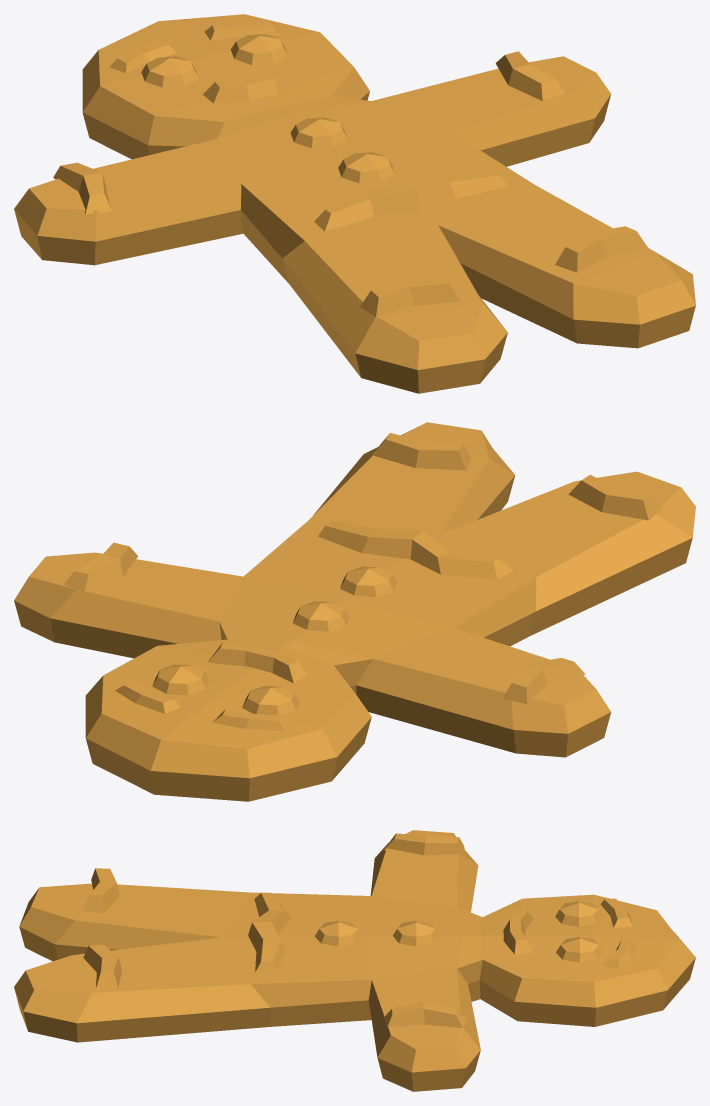
The model's file is gingerbread-man.fbx.
3 renders of one model, top to bottom at view 1: azimuth 30°, elevation 25°; view 2: azimuth 150°, elevation 25°; view 3: azimuth 270°, elevation 25°, orthographic. The views are drawn at different scales.
Visible parts, largest first — view 1: gingerbread-man; view 2: gingerbread-man; view 3: gingerbread-man.
Boxes of the visible parts, left/top/right/bottom form: gingerbread-man: left=14, top=14, right=695, bottom=393; gingerbread-man: left=14, top=422, right=695, bottom=801; gingerbread-man: left=14, top=830, right=695, bottom=1091.
Bounding box in the file's own units: 0.1363 × 0.0158 × 0.1715.
